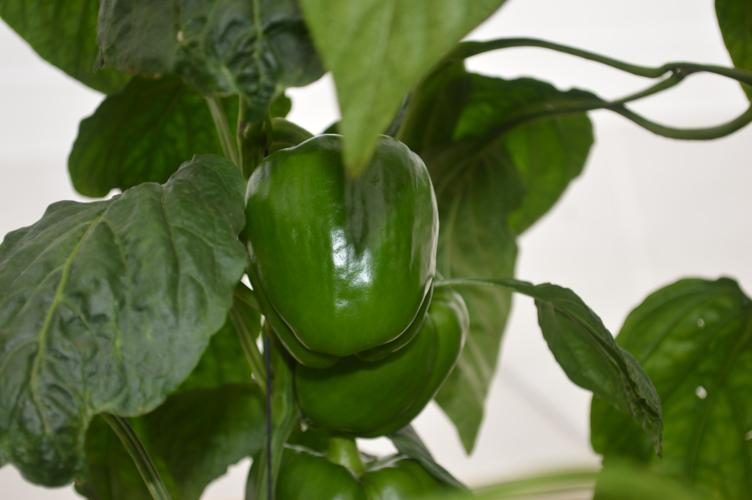BellPepper: (238, 130, 441, 354), (280, 288, 477, 435)
